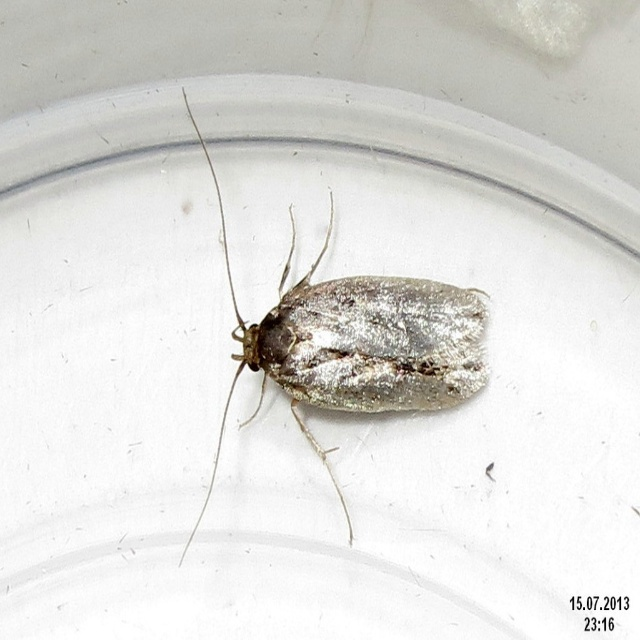Moths and butterflies: (176, 82, 493, 569)
